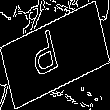P_S: (37, 25, 73, 85)
